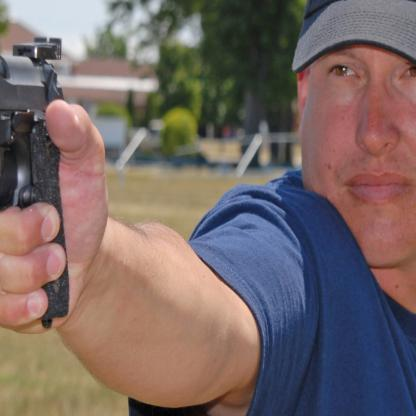gun: (0, 23, 73, 328)
